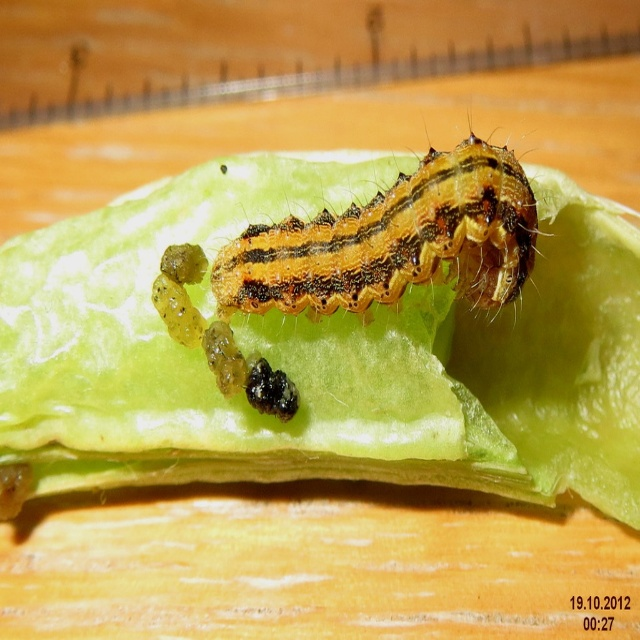Caterpillar: (199, 92, 557, 345)
